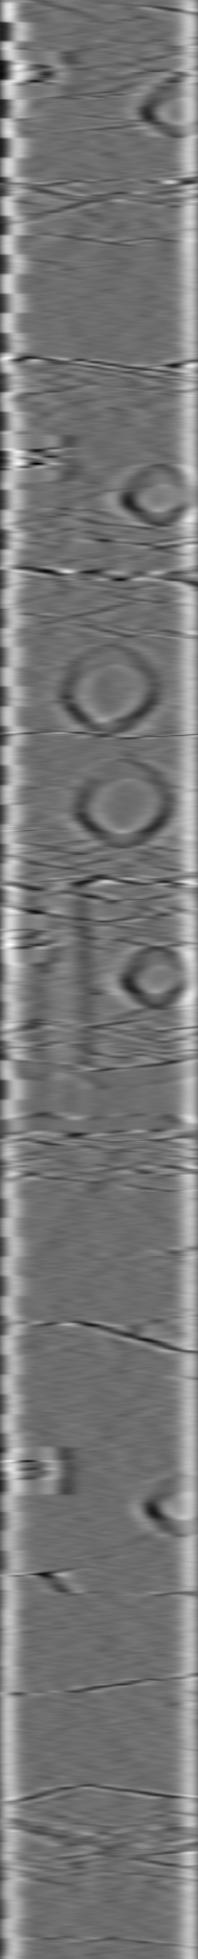hplug: (118, 940, 192, 1016), (120, 460, 195, 530), (137, 67, 198, 145), (144, 1468, 198, 1540)
scal: (71, 755, 172, 852), (56, 642, 160, 736)
vplug: (24, 876, 94, 1069)
